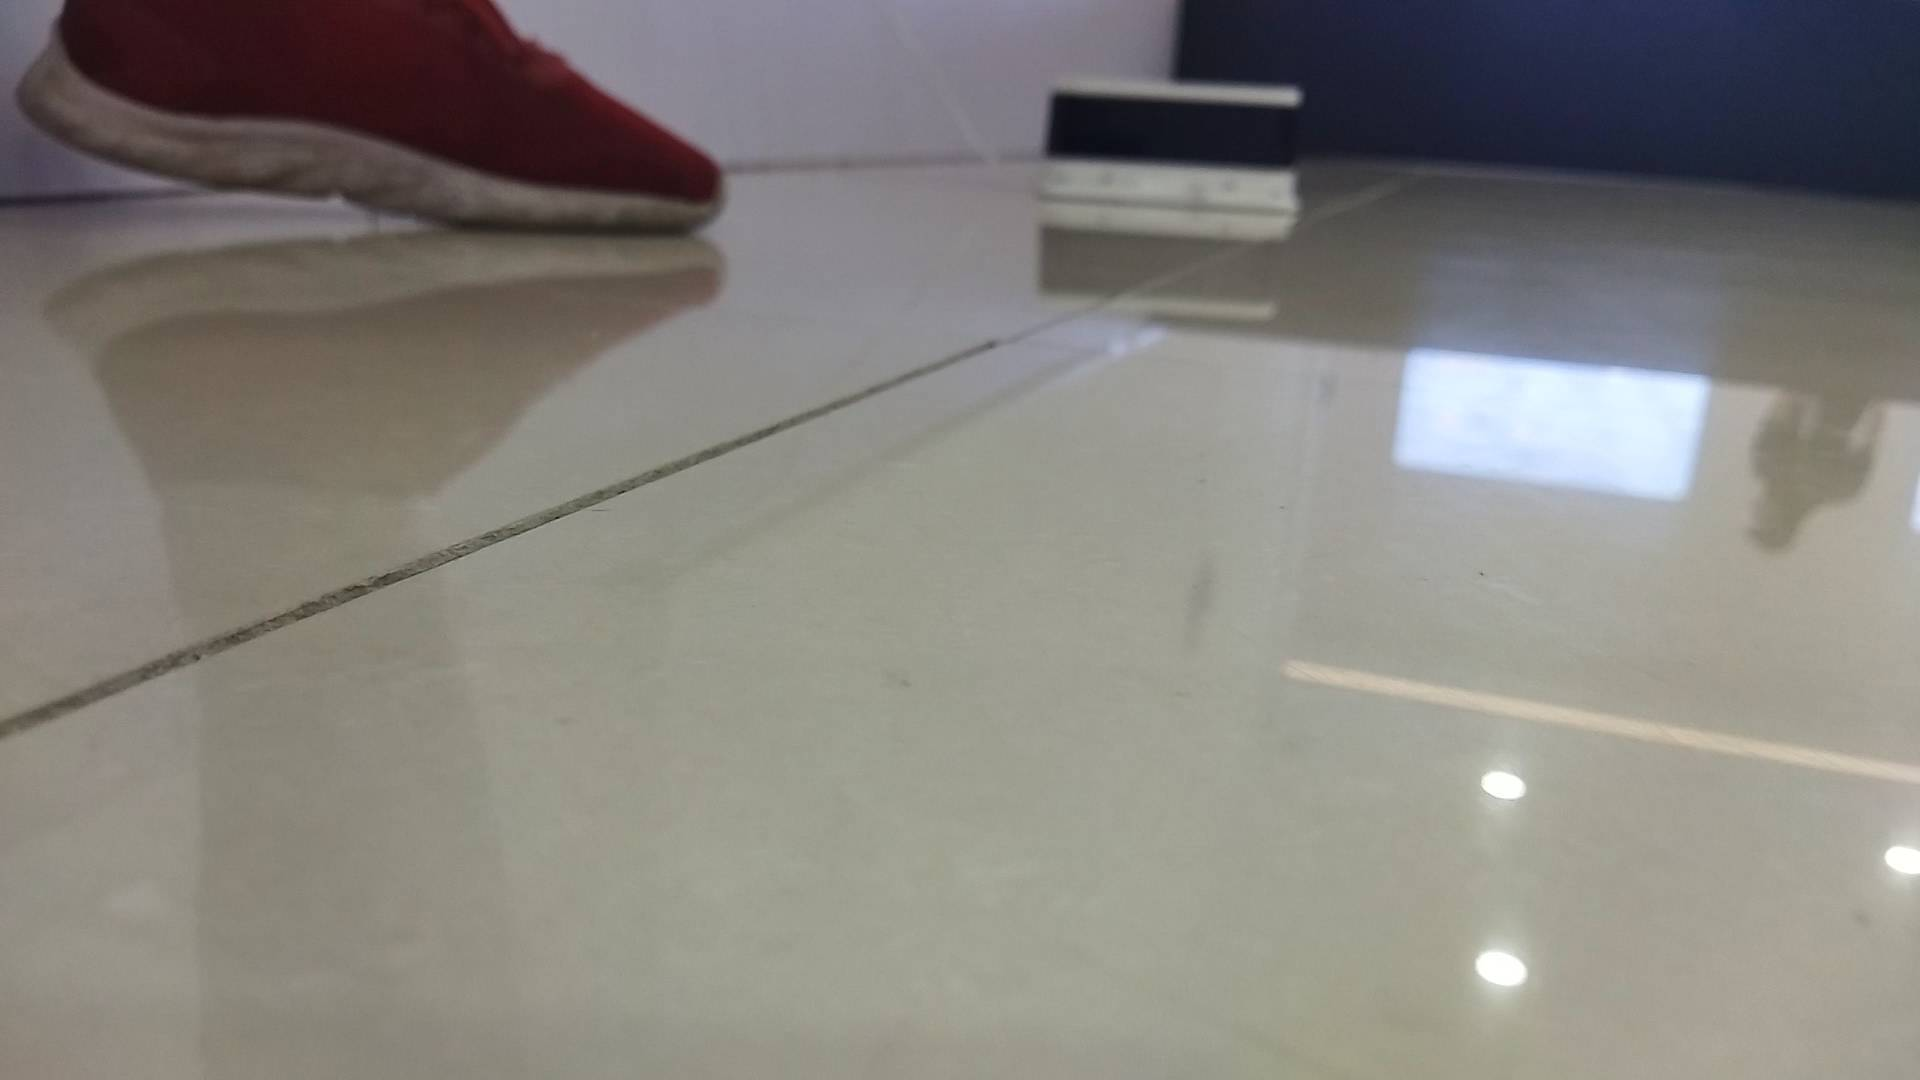recharge seat: (1033, 73, 1308, 216)
